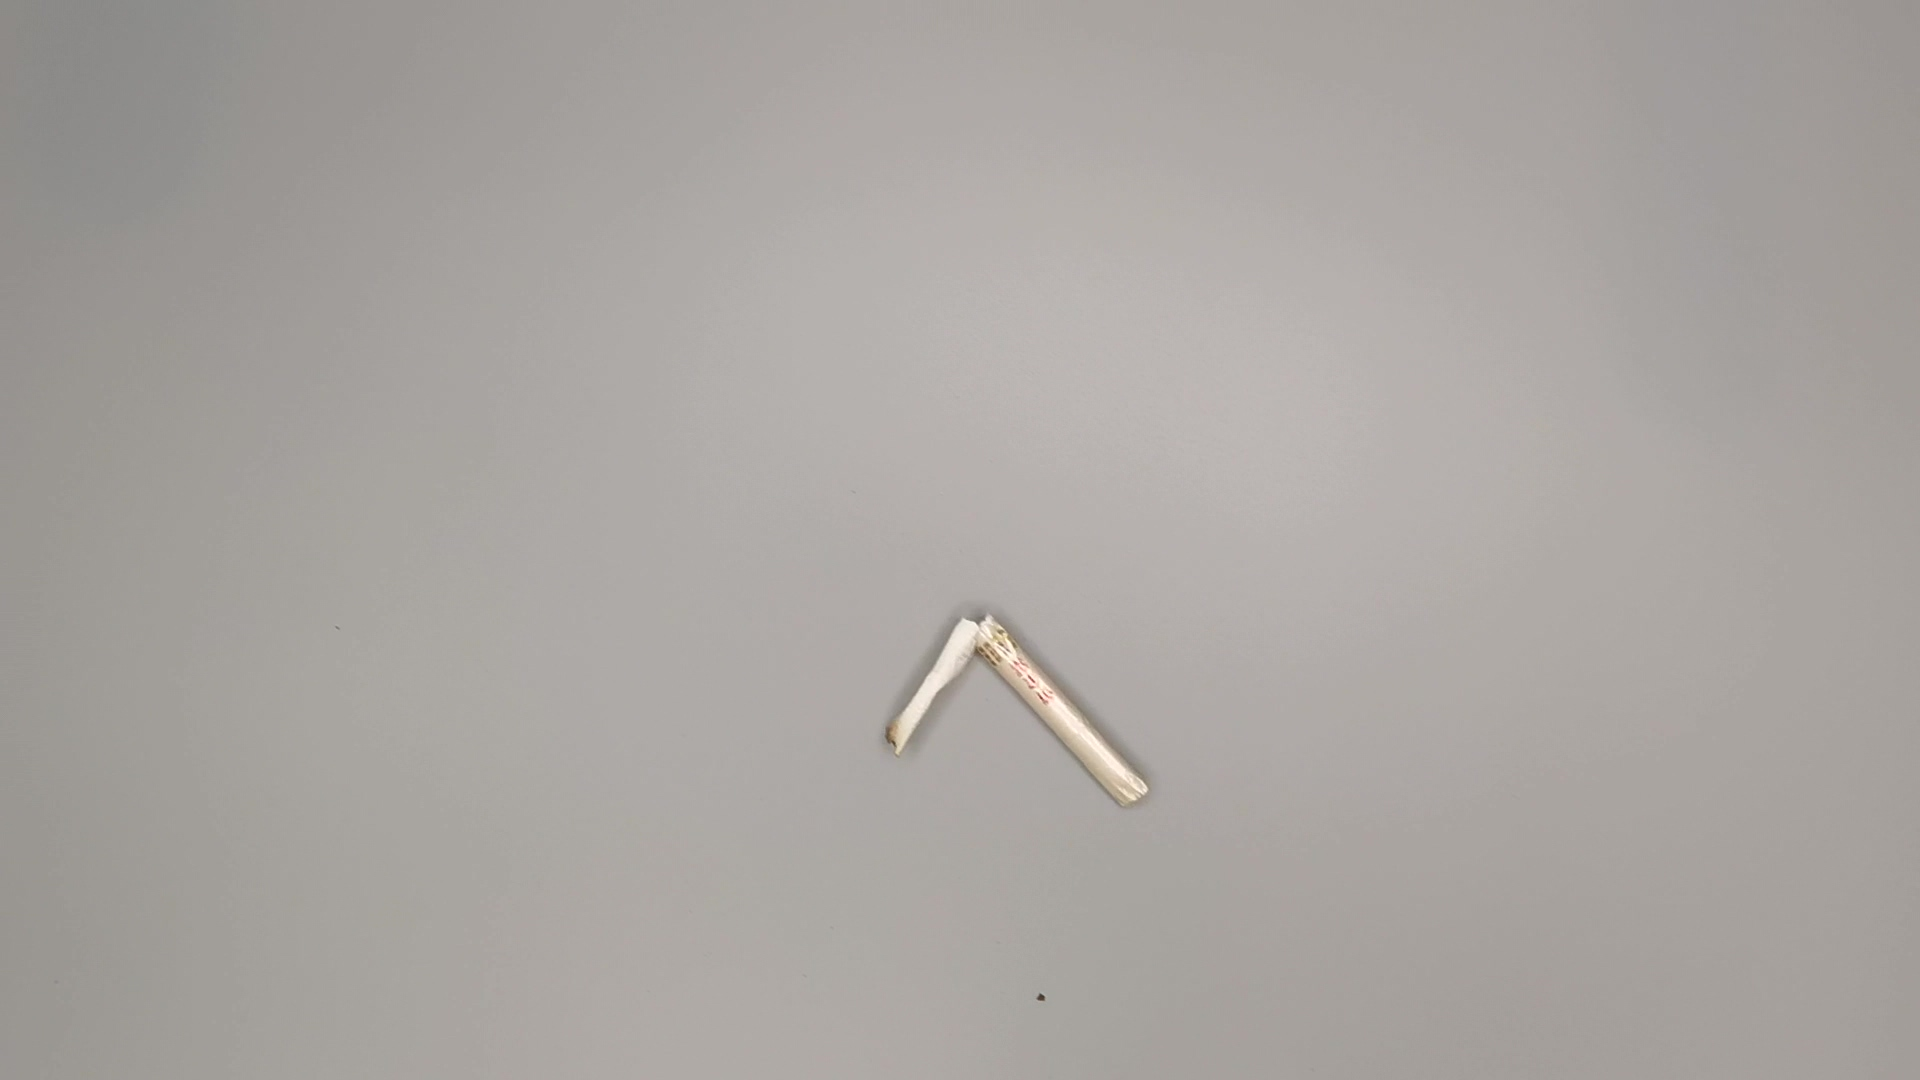cigarette: (886, 609, 1153, 815)
